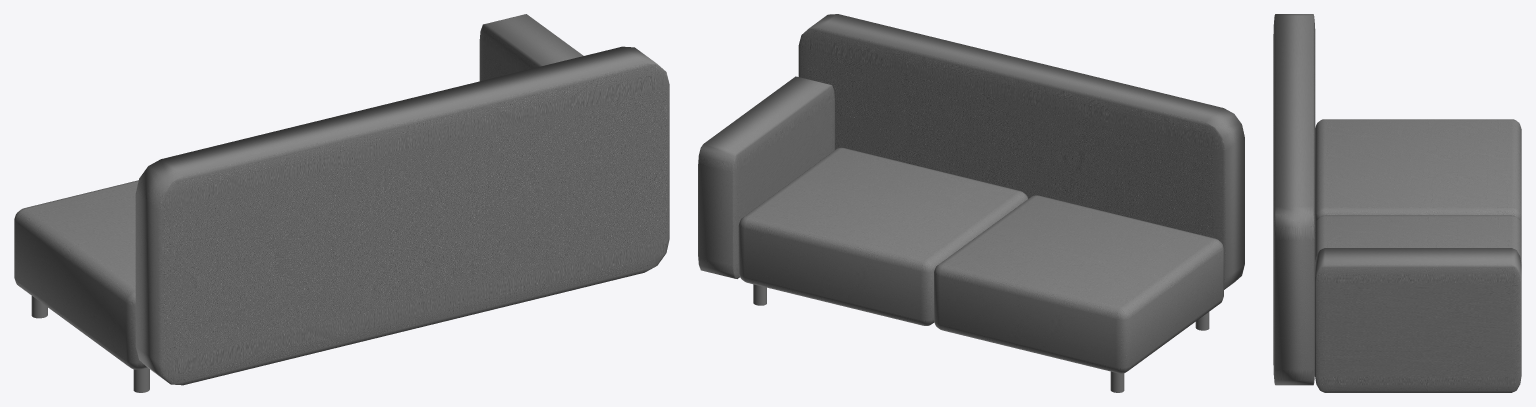
The model's file is osofa.FBX.
3 views of the same model, side by side, from view 1: azimuth 30°, elevation 25°; view 2: azimuth 150°, elevation 25°; view 3: azimuth 270°, elevation 25° (orthographic). The views are drawn at different scales.
Visible parts, largest first — view 1: ChamferBox014, ChamferBox012, ChamferBox013; view 2: ChamferBox014, ChamferBox012, ChamferBox010, ChamferBox013; view 3: ChamferBox013, ChamferBox012, ChamferBox014, ChamferBox010.
Boxes of the visible parts, bbox=[...] form: ChamferBox014: bbox=[135, 46, 669, 385]; ChamferBox012: bbox=[14, 180, 147, 369]; ChamferBox013: bbox=[479, 14, 583, 81]; ChamferBox014: bbox=[798, 14, 1244, 289]; ChamferBox012: bbox=[934, 195, 1223, 373]; ChamferBox010: bbox=[738, 147, 1027, 325]; ChamferBox013: bbox=[698, 76, 834, 278]; ChamferBox013: bbox=[1315, 248, 1521, 392]; ChamferBox012: bbox=[1315, 119, 1521, 224]; ChamferBox014: bbox=[1273, 14, 1315, 385]; ChamferBox010: bbox=[1315, 215, 1521, 263].
Size of the model in its own units: 328 by 162 by 144.
1 material, 1 textured.
